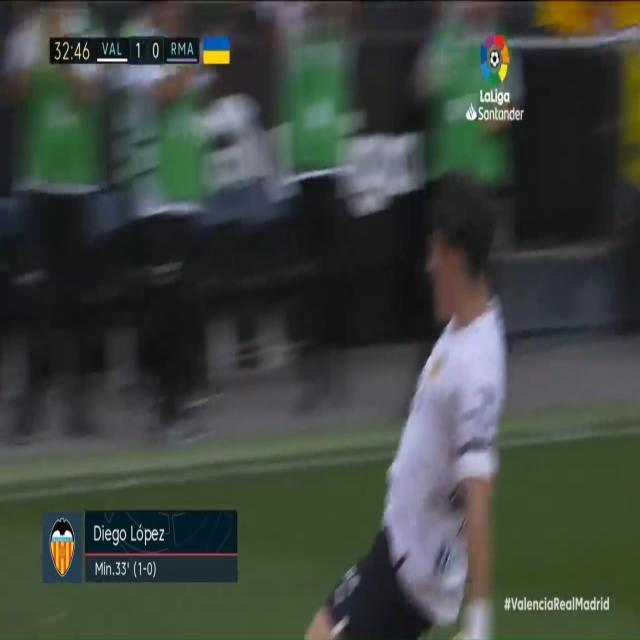player: (302, 136, 509, 640)
